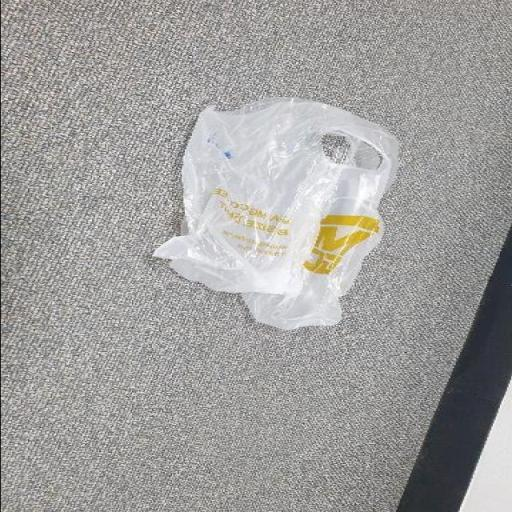plastic-bag: (151, 94, 403, 332)
